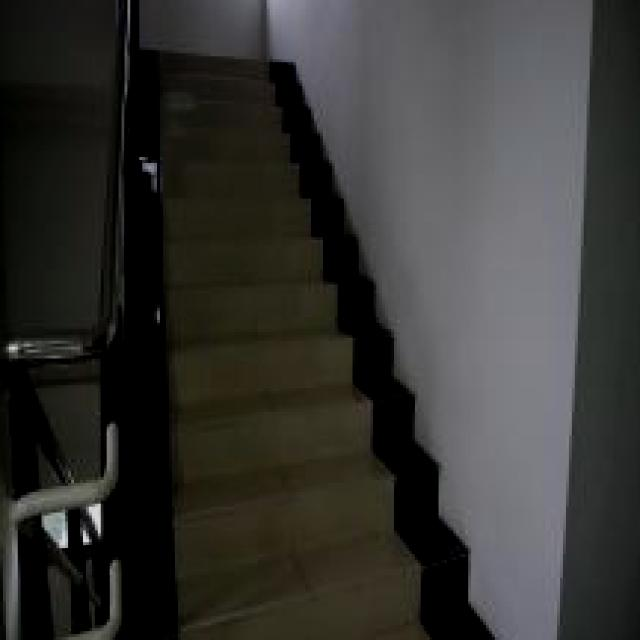upstair: (131, 164, 333, 599)
